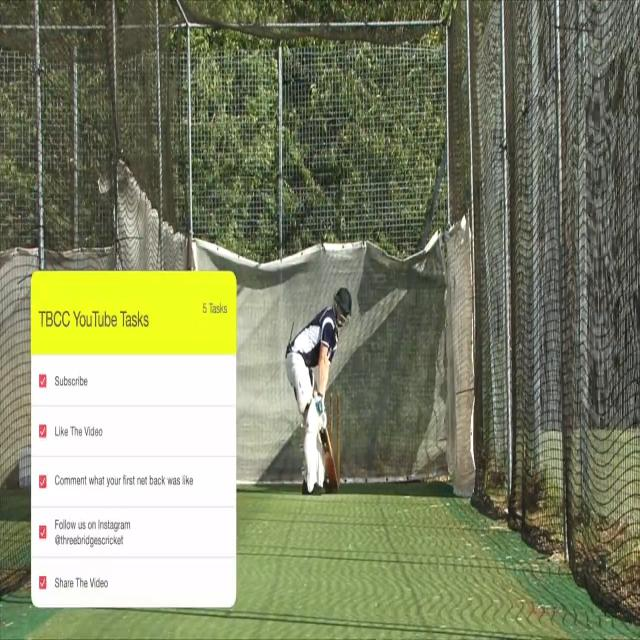batsman: (284, 285, 352, 496)
